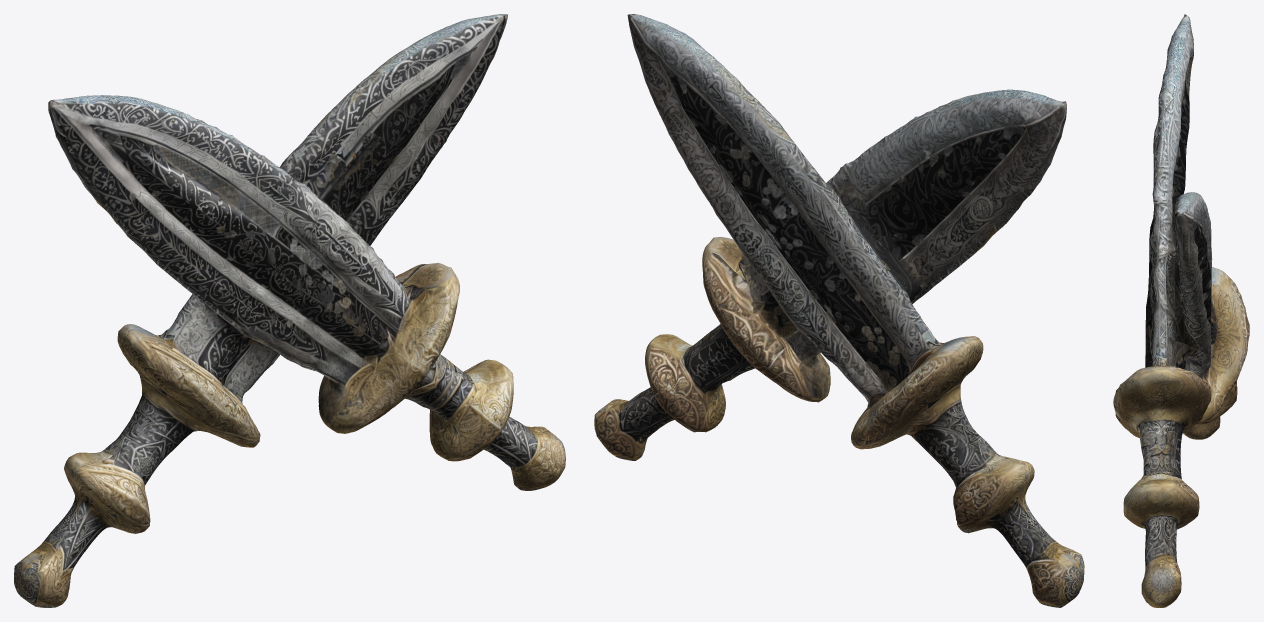
File: The_image_features_a_pair_of_crossed_swords_each_with_a_curv_0601120658_refine.obj
The picture shows the model from 3 angles, left to right: view 1: azimuth 30°, elevation 25°; view 2: azimuth 150°, elevation 25°; view 3: azimuth 270°, elevation 25°; orthographic projection. The views are drawn at different scales.
Parts seen in each view (by area): view 1: Mesh_0; view 2: Mesh_0; view 3: Mesh_0.
Boxes of the visible parts, box(x1,y1,x2,y2) form: Mesh_0: box(14, 14, 565, 607); Mesh_0: box(594, 14, 1084, 607); Mesh_0: box(1113, 14, 1249, 607).
Size of the model in its own units: 1.2 by 1.13 by 0.3319.
1 material, 1 textured.
